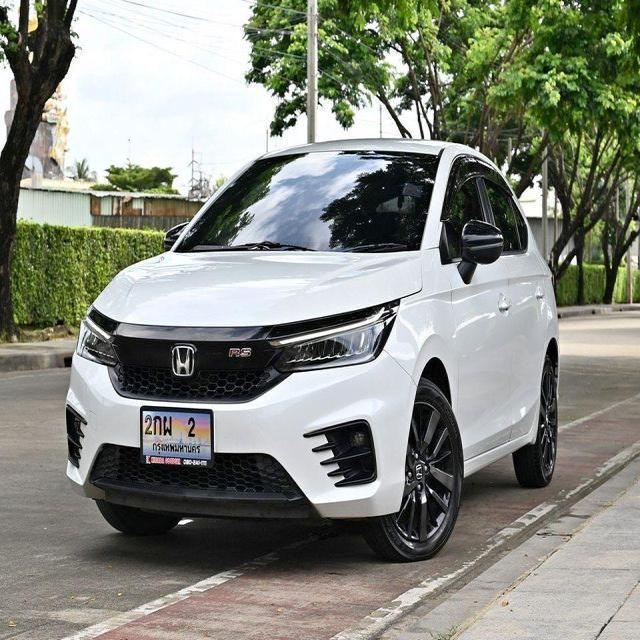Hatchback: (64, 138, 561, 564)
